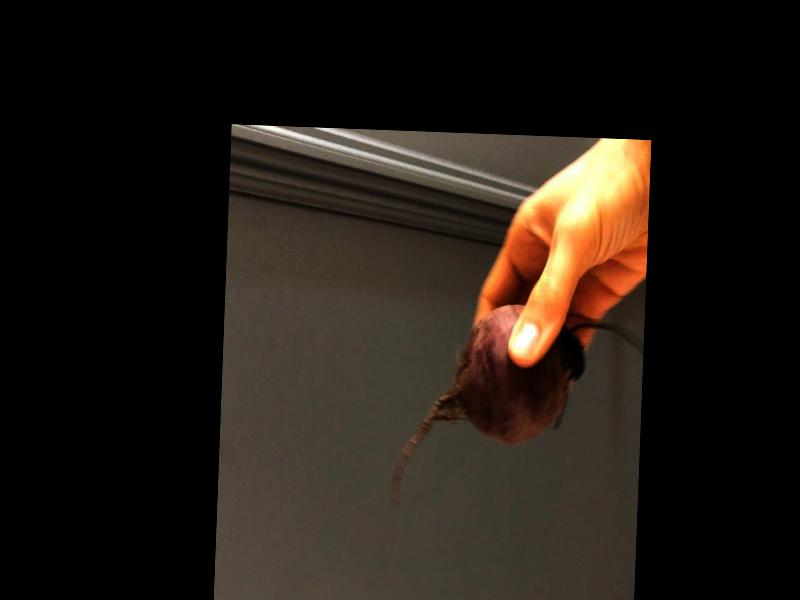Beet: (390, 300, 645, 519)
